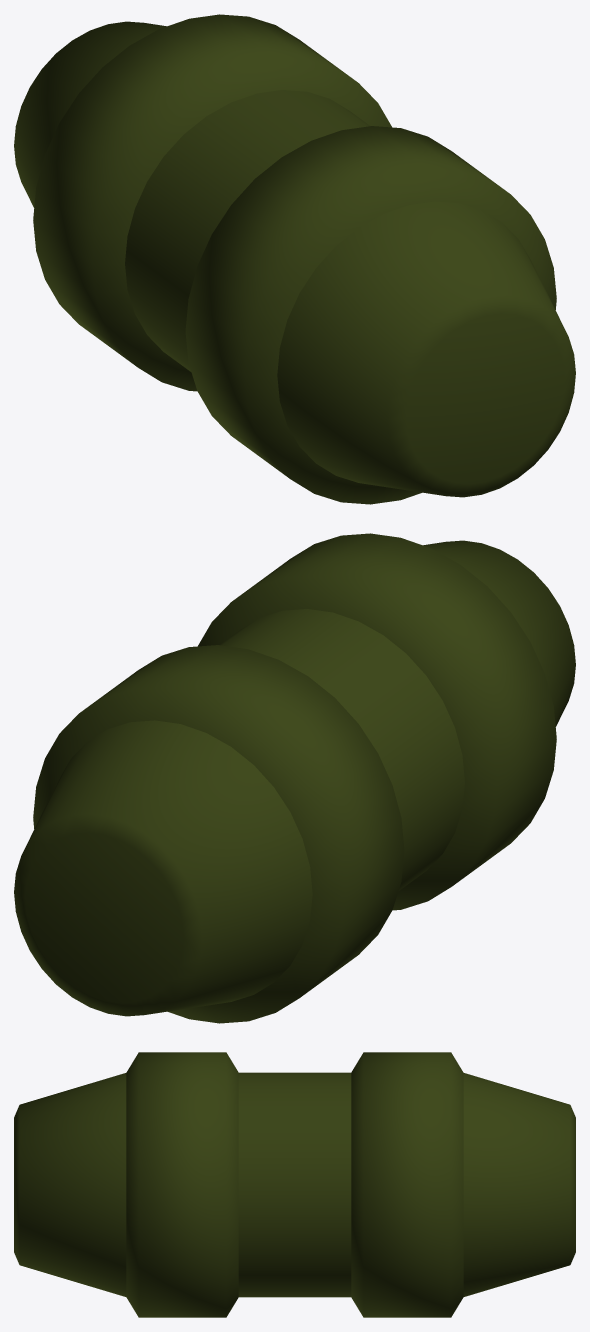
Rendered from Bomb_Placeholder.glb.
The picture shows the model from 3 angles, top to bottom: view 1: azimuth 30°, elevation 25°; view 2: azimuth 150°, elevation 25°; view 3: azimuth 270°, elevation 25°; orthographic projection. The views are drawn at different scales.
Parts seen in each view (by area): view 1: Bomb; view 2: Bomb; view 3: Bomb.
Boxes of the visible parts, <box> form: Bomb: <box>14,14,575,504</box>; Bomb: <box>14,533,575,1023</box>; Bomb: <box>14,1052,575,1317</box>.
Bounding box in the file's own units: 2.36 × 2.36 × 5.
